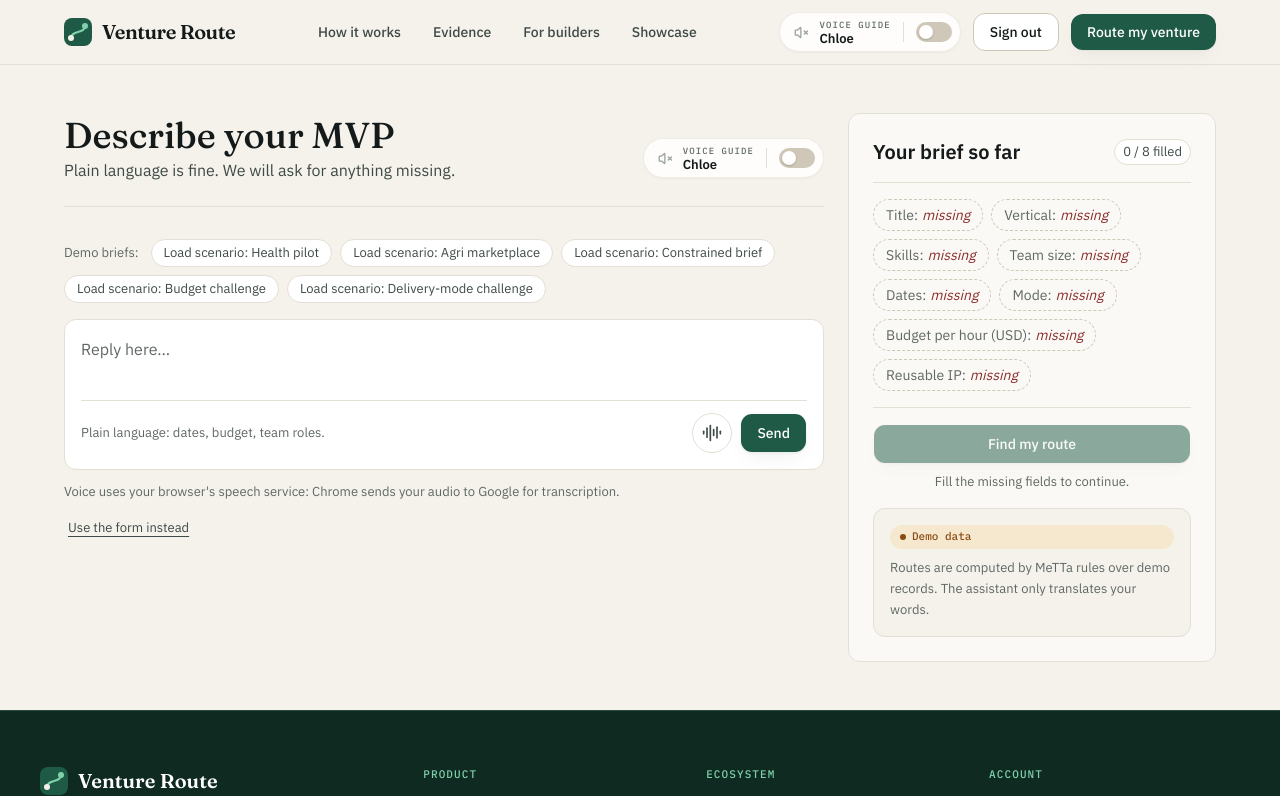
Test: the founder-wide Voice: Chloe toggle in the top nav › the greeting from the top-nav switch on /route lands in the chat thread once
The width and height of the screenshot is (1280, 796).
Expected: the heading "Describe your MVP" is shown, [64,113,394,157]
Step 1. Click the switch named "Voice: Chloe" in the row of "Showcase" → (934, 32), box [916,22,952,42]
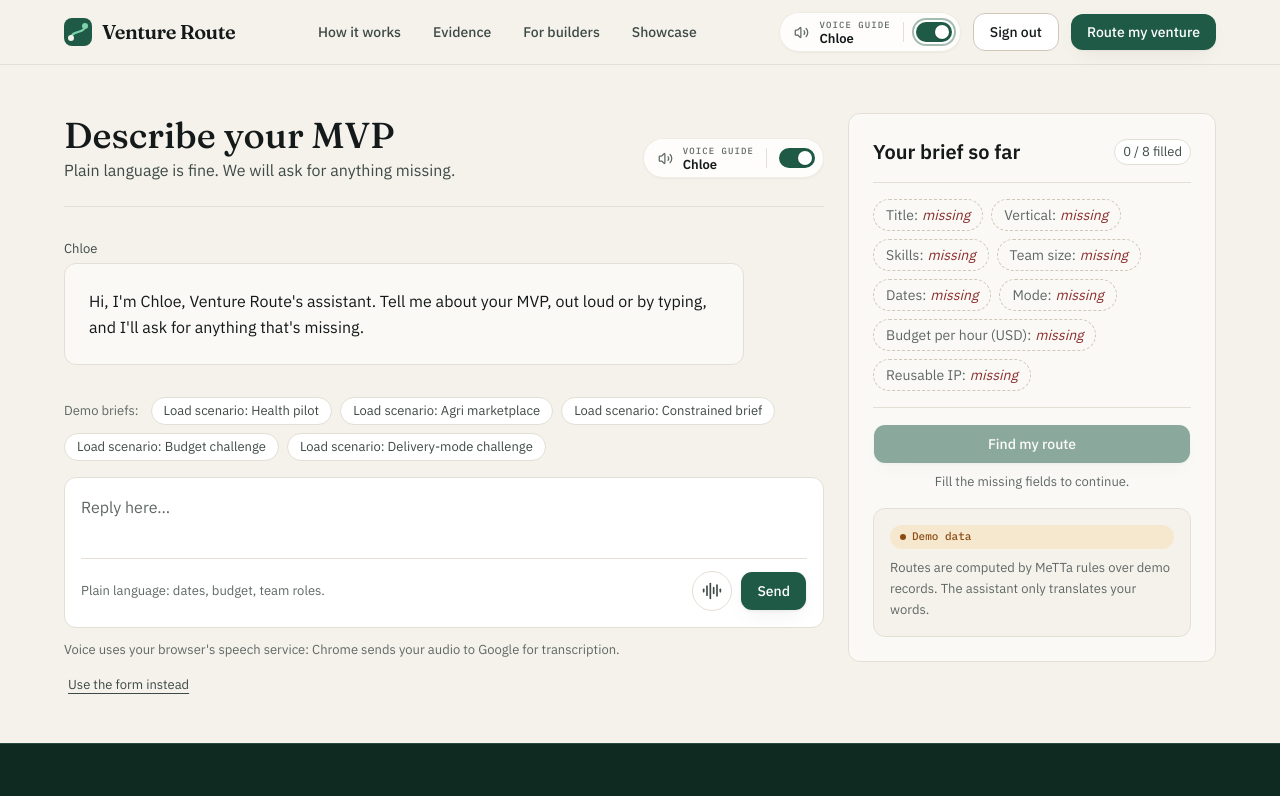
Expected: the number of list items with test id "chloe-turn" is 1, [64,239,824,364]
